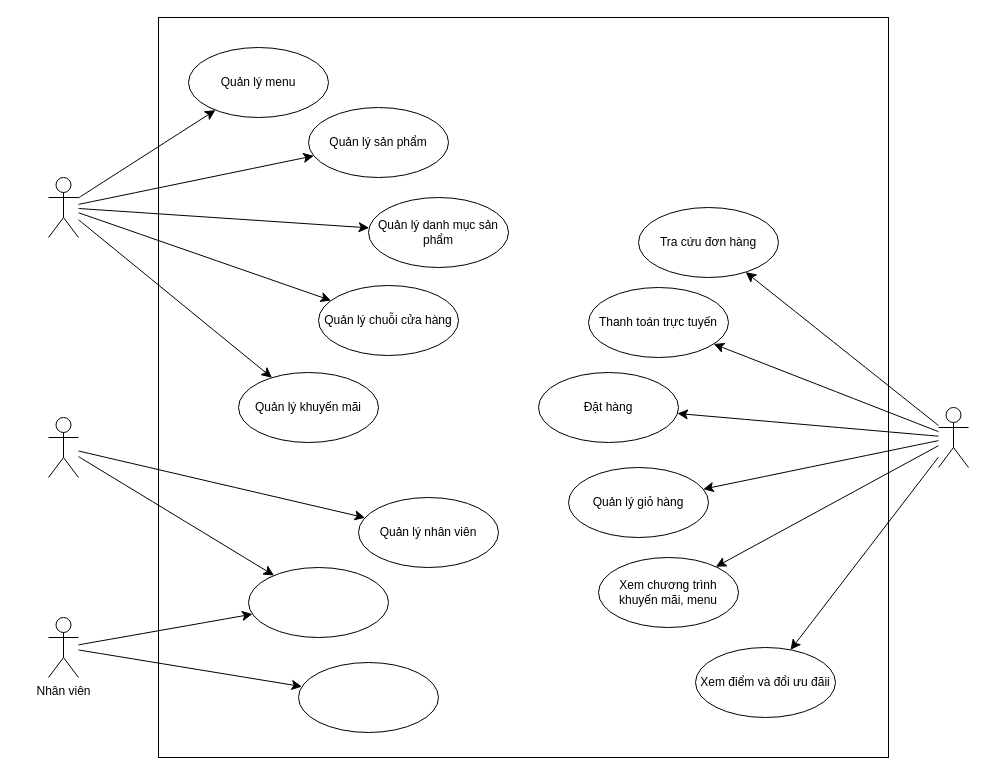
Some shapes in this 1003 by 775 pixel diagram are drawn without their labels. Each missing label, with the box of its shape:
Khách hàng: (938, 406, 968, 468)
POS bán hàng: (298, 662, 438, 732)
Quản lý: (48, 416, 78, 478)
Quản lý đơn hàng: (248, 566, 388, 638)
Quản trị hệ thống: (48, 176, 78, 238)
